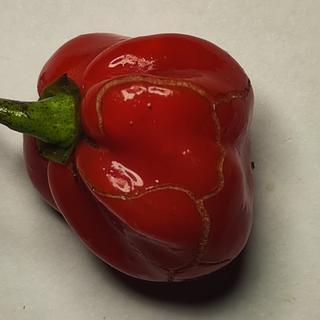striped: (89, 70, 261, 283)
